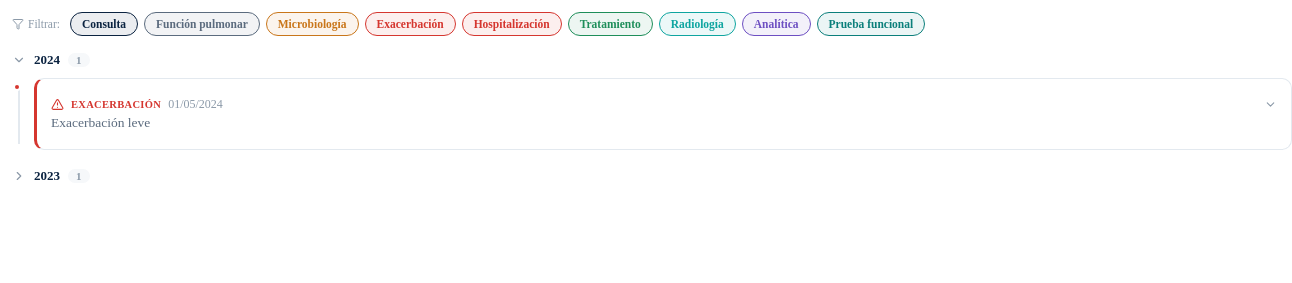
Test: TimelineTab › agrupa por año cuando hay más de un año de historia, con solo el año más reciente abierto por defecto
The width and height of the screenshot is (1292, 283).
Click the button "2023 1": click(51, 176) 12,168 -> 90,184
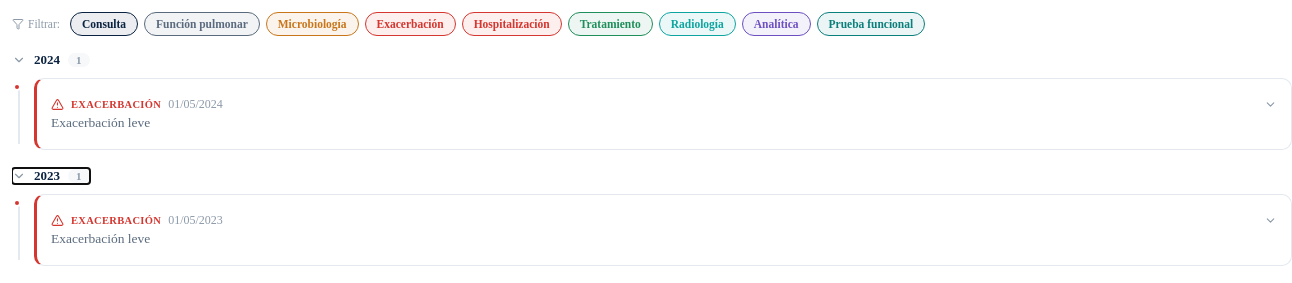
Expected: the button "2023 1" is expanded, 12,168 -> 90,184
